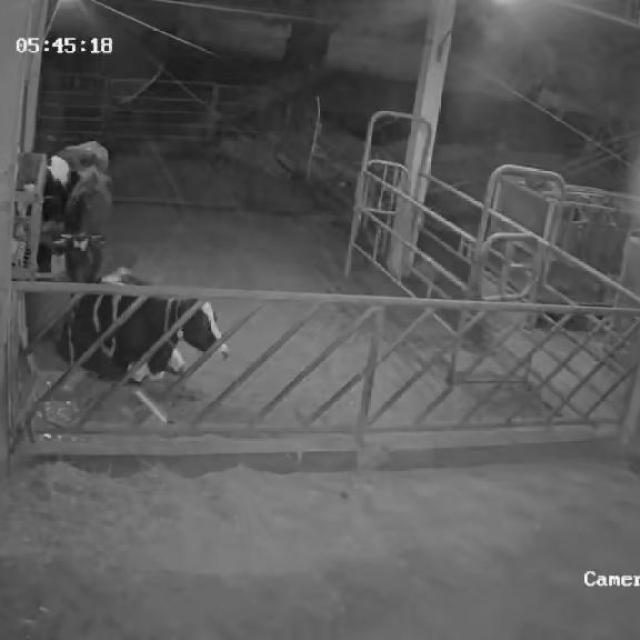lying down: (59, 264, 233, 382)
standing: (12, 137, 110, 237), (56, 165, 113, 282)
